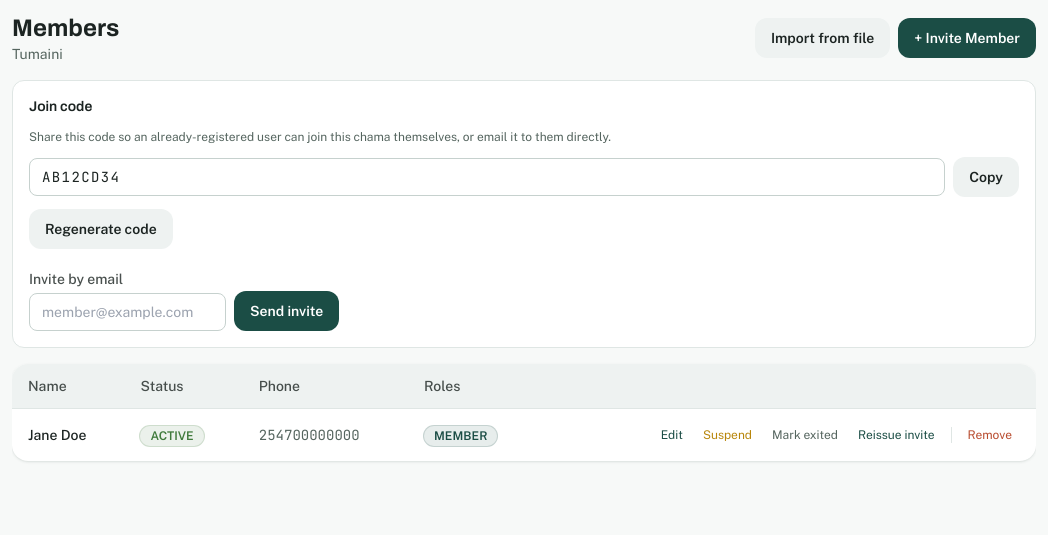
MembersPage › marks an active member exited and no longer offers exiting an already-exited member
This screenshot has width=1048, height=535.
Check: the text "Jane Doe" is shown, box left=28, top=427, right=86, bottom=443
Click the button "Mark exited" at coordinates (805, 435), box left=764, top=421, right=846, bottom=449
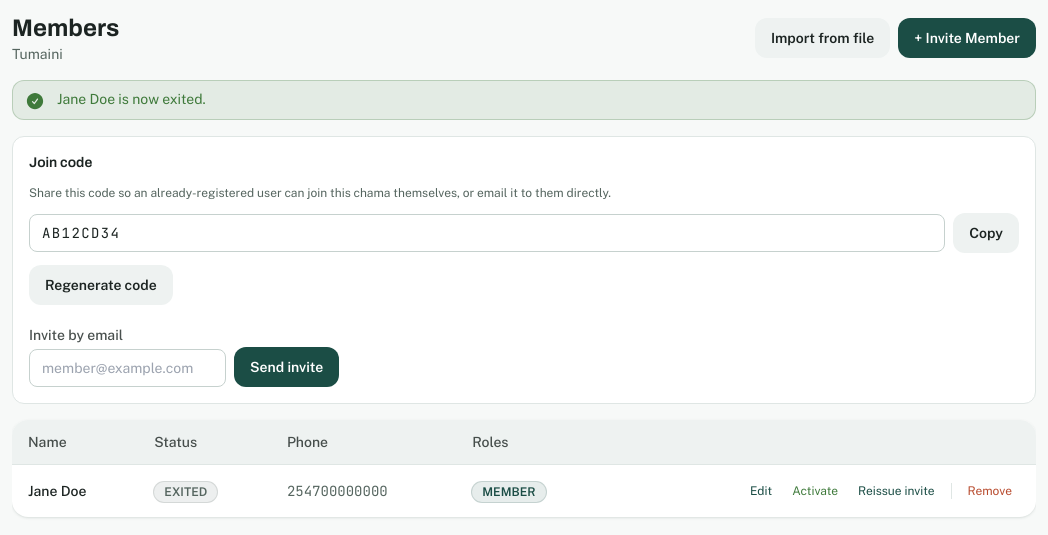
Check: the button "Mark exited" is gone
